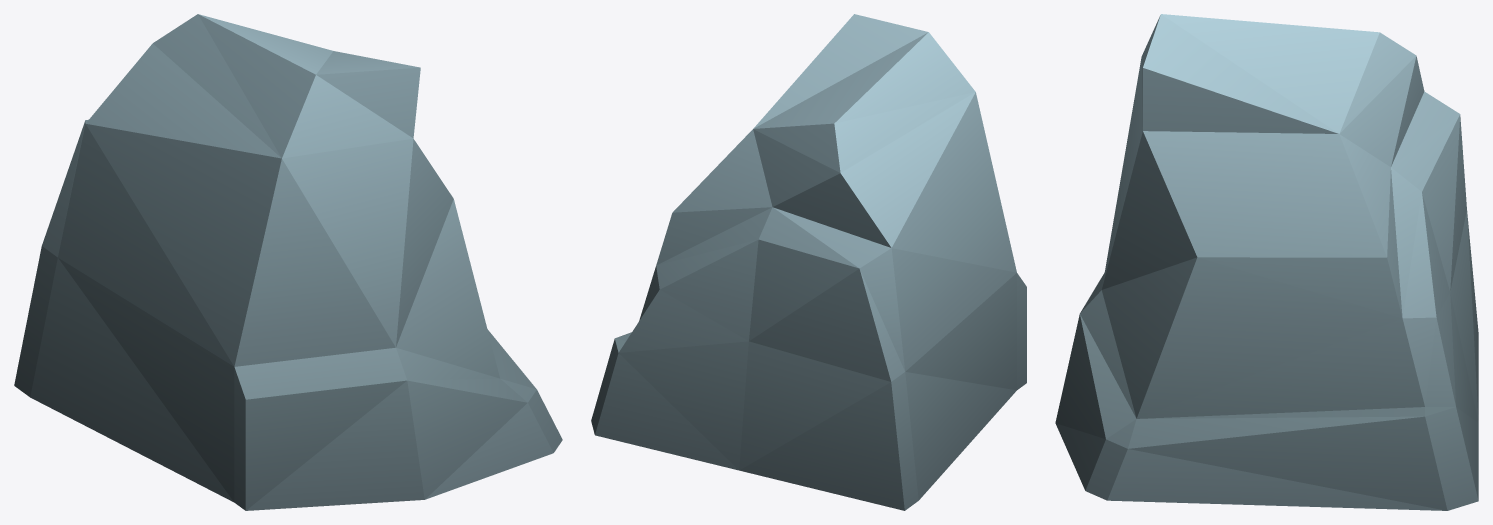
The model's file is stone small gray blue 2.fbx.
3 views of the same model, side by side, from view 1: azimuth 30°, elevation 25°; view 2: azimuth 150°, elevation 25°; view 3: azimuth 270°, elevation 25° (orthographic). The views are drawn at different scales.
Visible parts, largest first — view 1: stone small gray blue 2; view 2: stone small gray blue 2; view 3: stone small gray blue 2.
Boxes of the visible parts, x1,y1,x2,y2 form: stone small gray blue 2: (14, 14, 562, 510); stone small gray blue 2: (591, 14, 1026, 510); stone small gray blue 2: (1055, 14, 1478, 510).
Size of the model in its own units: 56.14 by 56.53 by 56.5.
